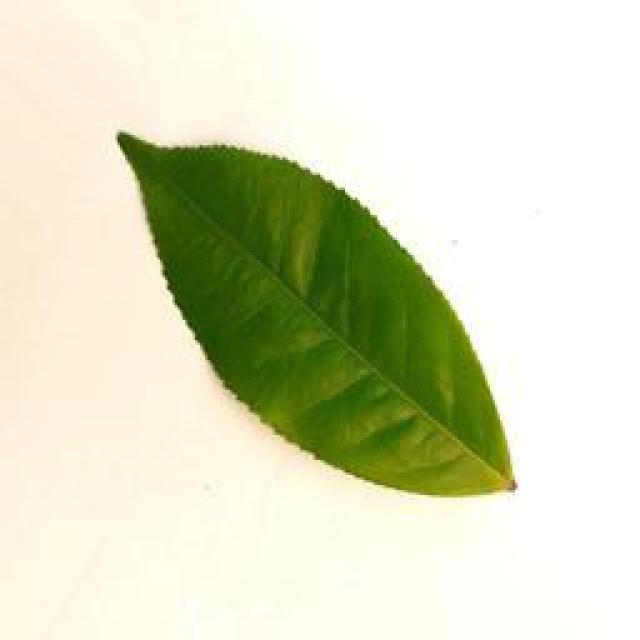Healthy: (107, 116, 529, 508)
